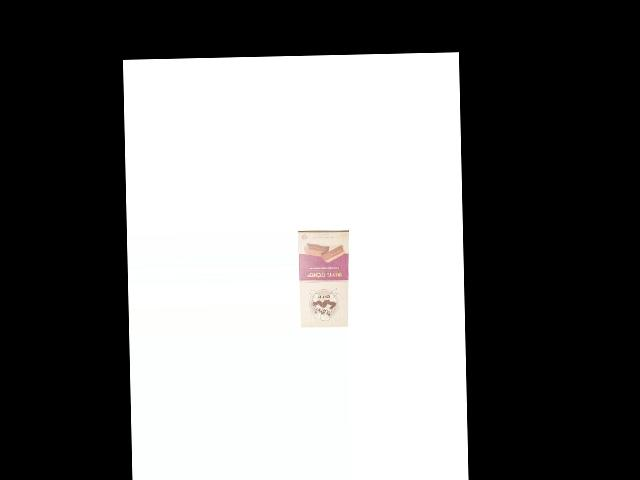chocolate: (299, 229, 352, 328)
